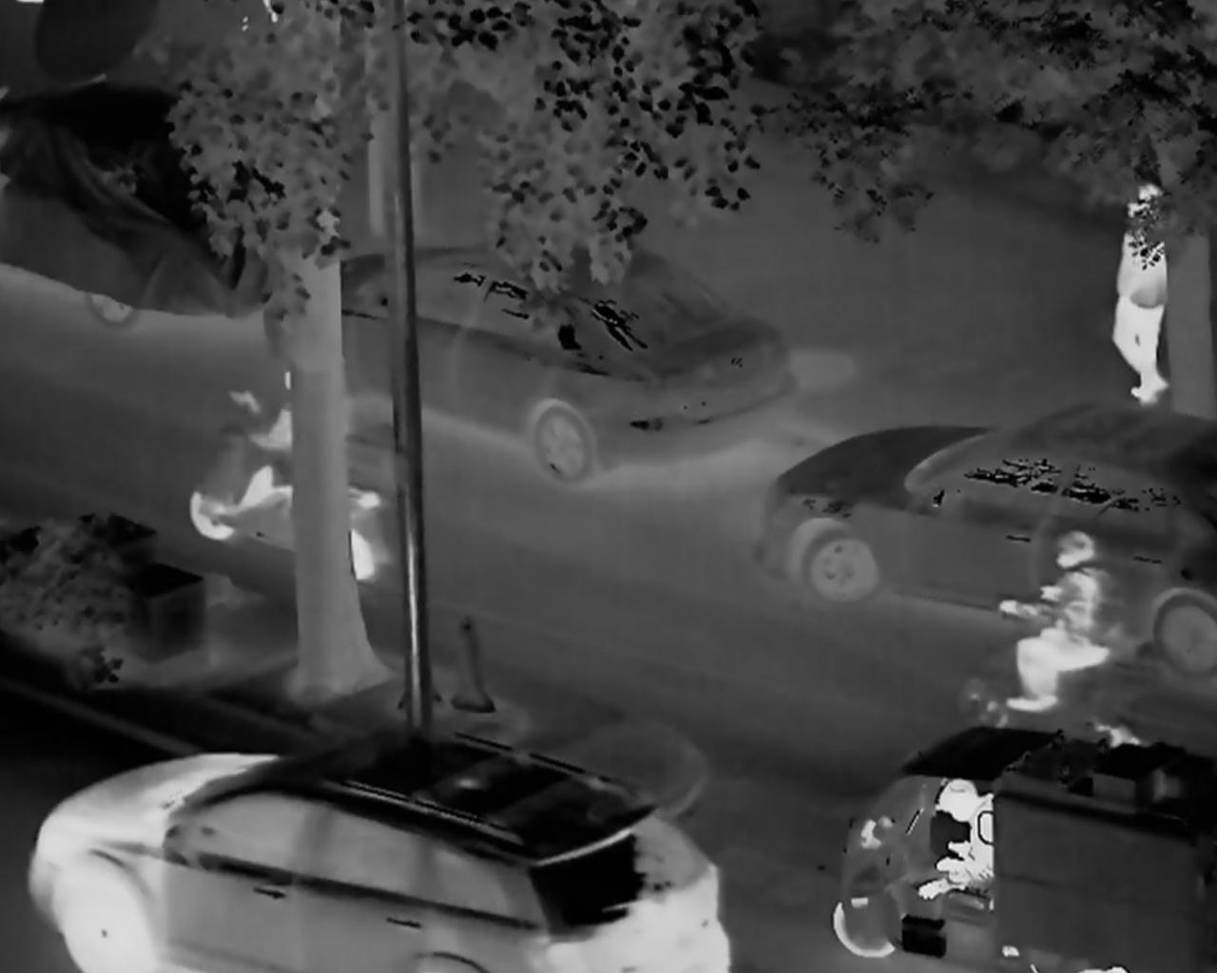person: (999, 523, 1115, 707), (243, 359, 350, 556), (1101, 167, 1182, 413), (913, 777, 1000, 906)
